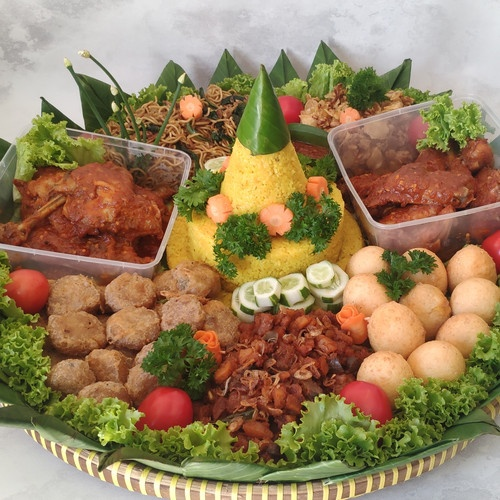tumpeng: (178, 58, 340, 206)
